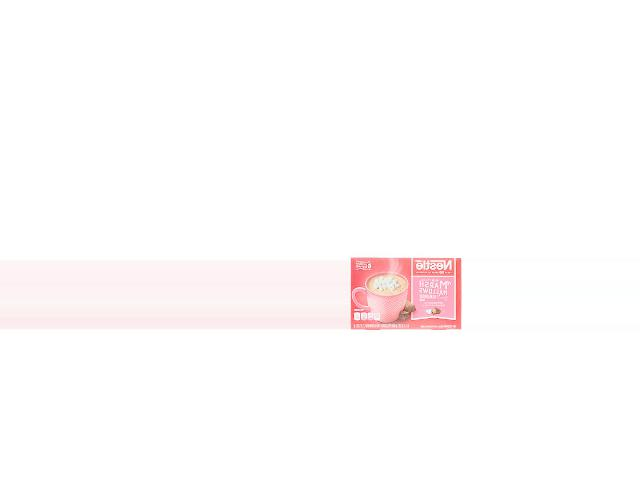chocolate: (349, 260, 458, 334)
